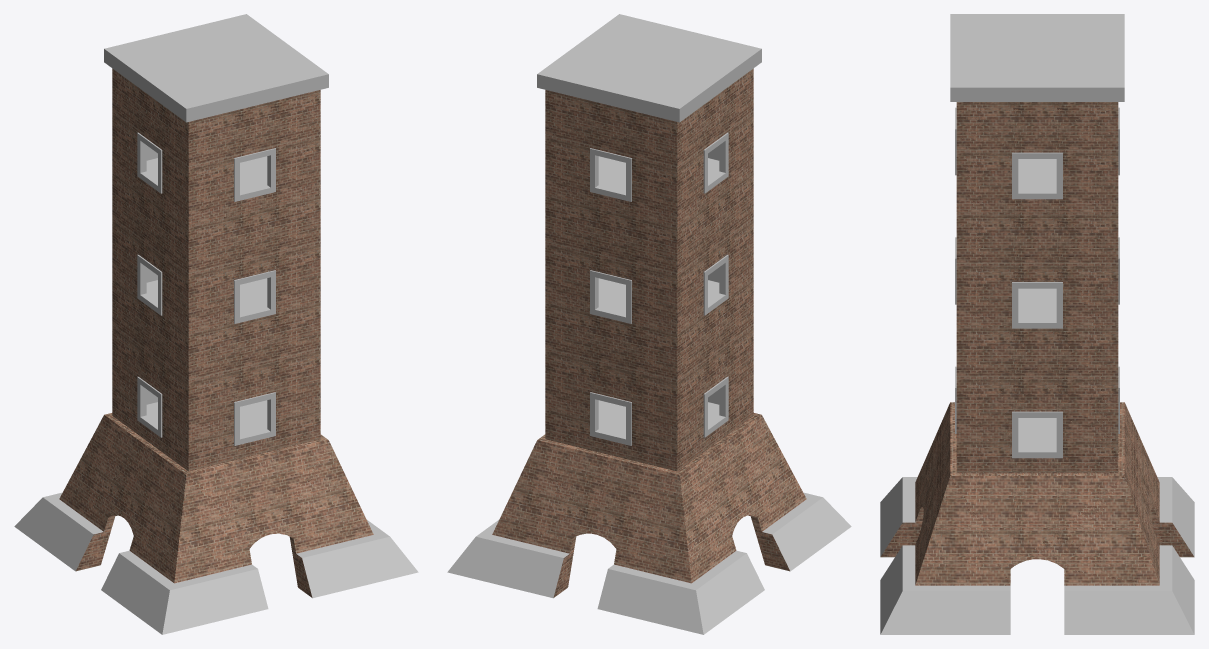
File: tower_3.dae
3 renders of one model, left to right at view 1: azimuth 30°, elevation 25°; view 2: azimuth 150°, elevation 25°; view 3: azimuth 270°, elevation 25°, orthographic. The views are drawn at different scales.
Visible parts, largest first — view 1: SketchUp (×15); view 2: SketchUp (×15); view 3: SketchUp (×13).
Boxes of the visible parts, bbox=[...] form: SketchUp (×15): bbox=[14, 14, 418, 634]; SketchUp (×15): bbox=[447, 14, 851, 634]; SketchUp (×13): bbox=[880, 14, 1194, 634].
Size of the model in its own units: 390 by 390 by 709.
